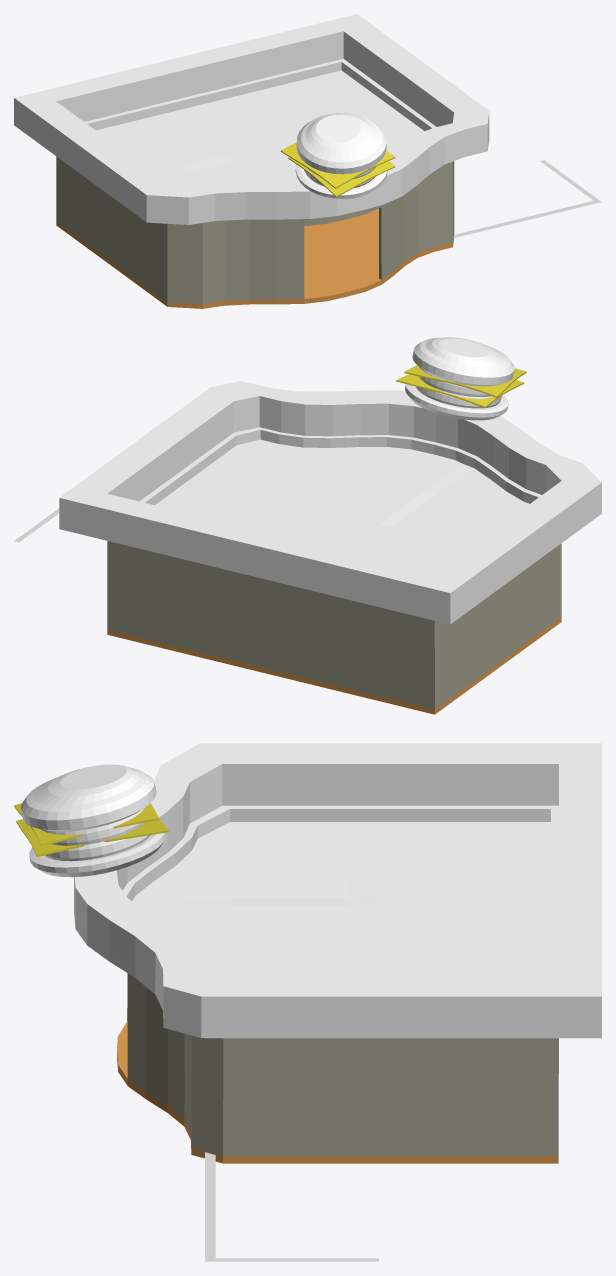
The model's file is Burger.glb.
3 renders of one model, top to bottom at view 1: azimuth 30°, elevation 25°; view 2: azimuth 150°, elevation 25°; view 3: azimuth 270°, elevation 25°, orthographic. The views are drawn at different scales.
Visible parts, largest first — view 1: Roof, wall, Floor, Cylinder, Cylinder.001, Table, Plane, Burger; view 2: Roof, wall, Cylinder, Floor, Cylinder.001, Plane, Burger, Cylinder.003, Cylinder.002; view 3: Roof, wall, Cylinder, Floor, Cylinder.001, Table, Cylinder.003, Burger, Cylinder.002, Plane.
Part boxes in pixels (x1,y1,x2,y2): Roof: [14, 14, 489, 224]; wall: [56, 156, 454, 303]; Floor: [56, 208, 454, 308]; Cylinder: [296, 112, 386, 174]; Cylinder.001: [295, 164, 387, 199]; Table: [453, 160, 601, 237]; Plane: [280, 142, 395, 188]; Burger: [288, 157, 395, 197]; Roof: [59, 381, 601, 624]; wall: [107, 541, 561, 709]; Cylinder: [412, 337, 514, 386]; Floor: [107, 617, 561, 714]; Cylinder.001: [405, 384, 508, 420]; Plane: [404, 365, 526, 397]; Burger: [396, 374, 524, 408]; Cylinder.003: [415, 386, 501, 408]; Cylinder.002: [419, 367, 491, 397]; Roof: [74, 743, 601, 1038]; wall: [127, 973, 558, 1157]; Cylinder: [21, 764, 156, 831]; Floor: [117, 1021, 558, 1163]; Cylinder.001: [29, 832, 166, 877]; Table: [205, 1152, 378, 1261]; Cylinder.003: [44, 835, 150, 861]; Burger: [16, 819, 168, 856]; Cylinder.002: [41, 807, 144, 845]; Plane: [14, 803, 159, 846].
Bounding box in the file's own units: 19.71 × 7.53 × 14.53.
